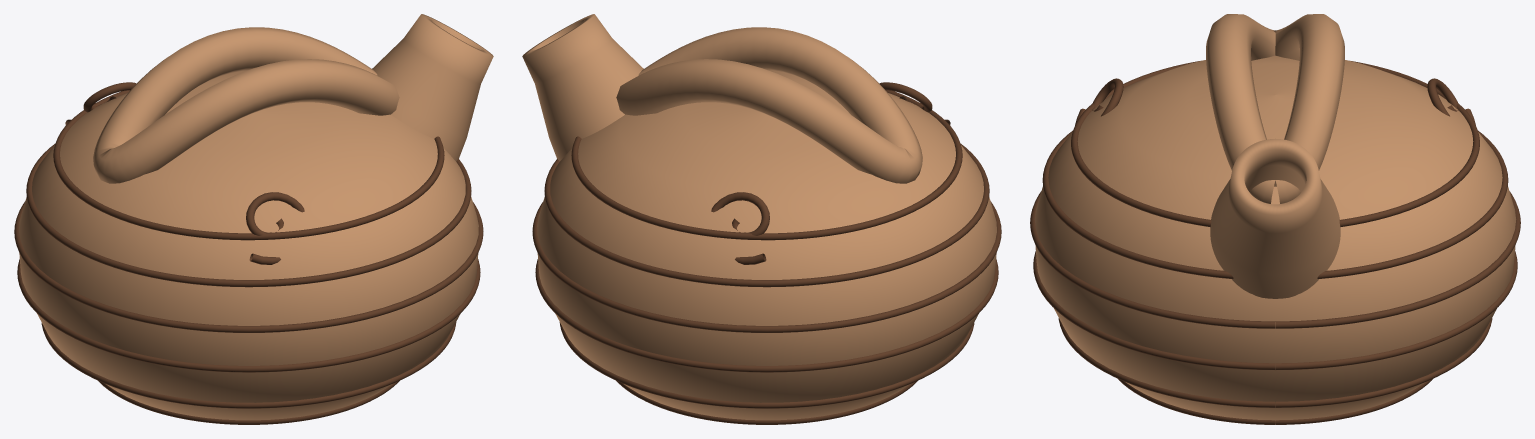
The model's file is akrotiri_askos.glb.
3 views of the same model, side by side, from view 1: azimuth 30°, elevation 25°; view 2: azimuth 150°, elevation 25°; view 3: azimuth 270°, elevation 25° (orthographic). The views are drawn at different scales.
Parts seen in each view (by area): view 1: Wheel-shaped ceramic, Horizontal loop handle, Wheel-shaped ceramic.001, Painted band.004, Painted band.003, Painted band.005, Painted band.002, Painted band.001, Painted band, Painted shoulder spiral, Painted shoulder spiral.001; view 2: Wheel-shaped ceramic, Horizontal loop handle, Wheel-shaped ceramic.001, Painted band.004, Painted band.003, Painted band.005, Painted band.002, Painted band.001, Painted band, Painted shoulder spiral.001, Painted shoulder spiral; view 3: Wheel-shaped ceramic, Wheel-shaped ceramic.001, Horizontal loop handle, Painted band.003, Painted band.004, Painted band.002, Painted band.005, Painted band.001, Painted band, Painted shoulder spiral, Painted shoulder spiral.001.
Boxes of the visible parts, x1,y1,x2,y2 form: Wheel-shaped ceramic: [19, 71, 478, 420]; Horizontal loop handle: [93, 27, 399, 183]; Wheel-shaped ceramic.001: [372, 14, 493, 161]; Painted band.004: [26, 143, 471, 287]; Painted band.003: [14, 201, 483, 332]; Painted band.005: [53, 90, 444, 240]; Painted band.002: [17, 259, 480, 372]; Painted band.001: [41, 322, 456, 408]; Painted band: [98, 380, 399, 424]; Painted shoulder spiral: [246, 192, 304, 264]; Painted shoulder spiral.001: [65, 82, 136, 125]; Wheel-shaped ceramic: [537, 71, 996, 420]; Horizontal loop handle: [616, 27, 922, 183]; Wheel-shaped ceramic.001: [522, 14, 643, 161]; Painted band.004: [544, 143, 989, 287]; Painted band.003: [532, 201, 1001, 332]; Painted band.005: [571, 90, 962, 240]; Painted band.002: [535, 259, 998, 372]; Painted band.001: [559, 322, 974, 408]; Painted band: [616, 380, 917, 424]; Painted shoulder spiral.001: [711, 192, 769, 264]; Painted shoulder spiral: [879, 82, 950, 125]; Wheel-shaped ceramic: [1034, 55, 1516, 420]; Wheel-shaped ceramic.001: [1210, 138, 1340, 298]; Horizontal loop handle: [1206, 14, 1344, 203]; Painted band.003: [1030, 191, 1520, 328]; Painted band.004: [1042, 130, 1508, 278]; Painted band.002: [1033, 251, 1517, 370]; Painted band.005: [1071, 61, 1479, 226]; Painted band.001: [1058, 318, 1492, 407]; Painted band: [1118, 379, 1432, 424]; Painted shoulder spiral: [1075, 78, 1123, 124]; Painted shoulder spiral.001: [1427, 78, 1475, 124].
Size of the model in its own units: 1.7 by 1.17 by 1.56.
